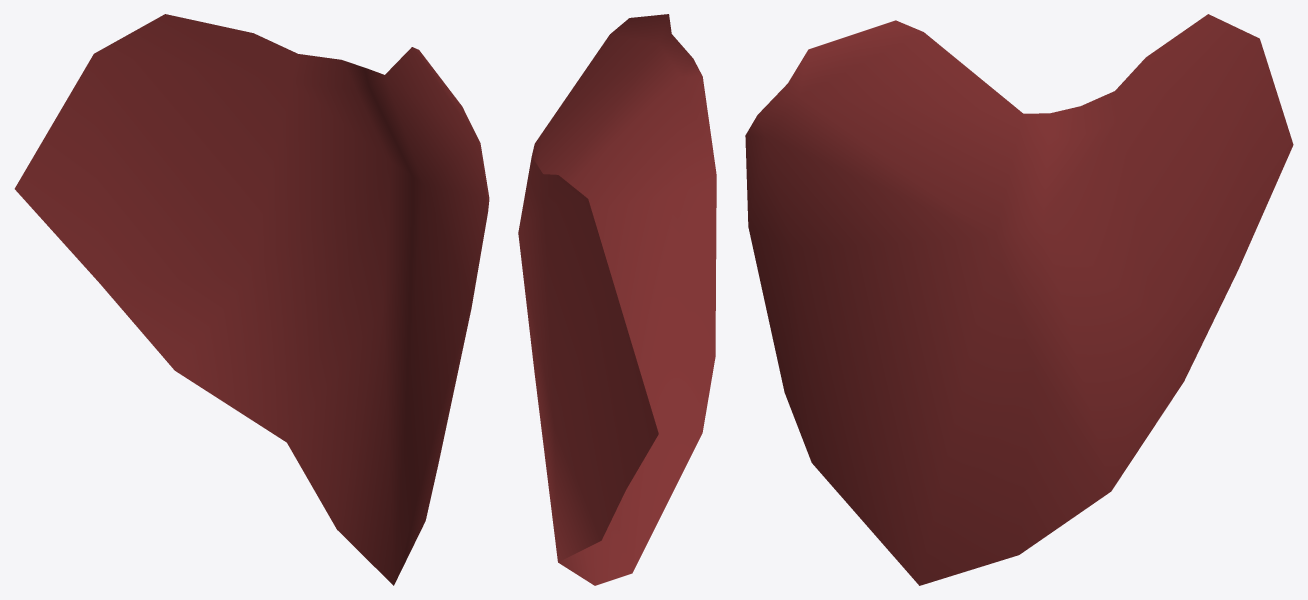
File: common-extensor-tendon-ol.glb
The picture shows the model from 3 angles, left to right: view 1: azimuth 30°, elevation 25°; view 2: azimuth 150°, elevation 25°; view 3: azimuth 270°, elevation 25°; orthographic projection. The views are drawn at different scales.
Parts seen in each view (by area): view 1: Common extensor tendon.ol; view 2: Common extensor tendon.ol; view 3: Common extensor tendon.ol.
Part boxes in pixels (bbox=[...]): Common extensor tendon.ol: bbox=[14, 14, 489, 585]; Common extensor tendon.ol: bbox=[518, 14, 716, 585]; Common extensor tendon.ol: bbox=[745, 14, 1293, 585].
Bounding box in the file's own units: 0.00396 × 0.00765 × 0.00663.
